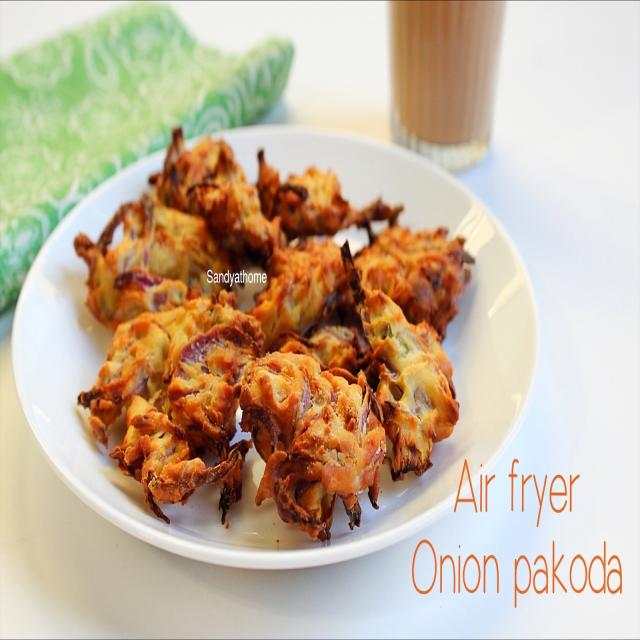BAJI: (73, 129, 478, 547)
